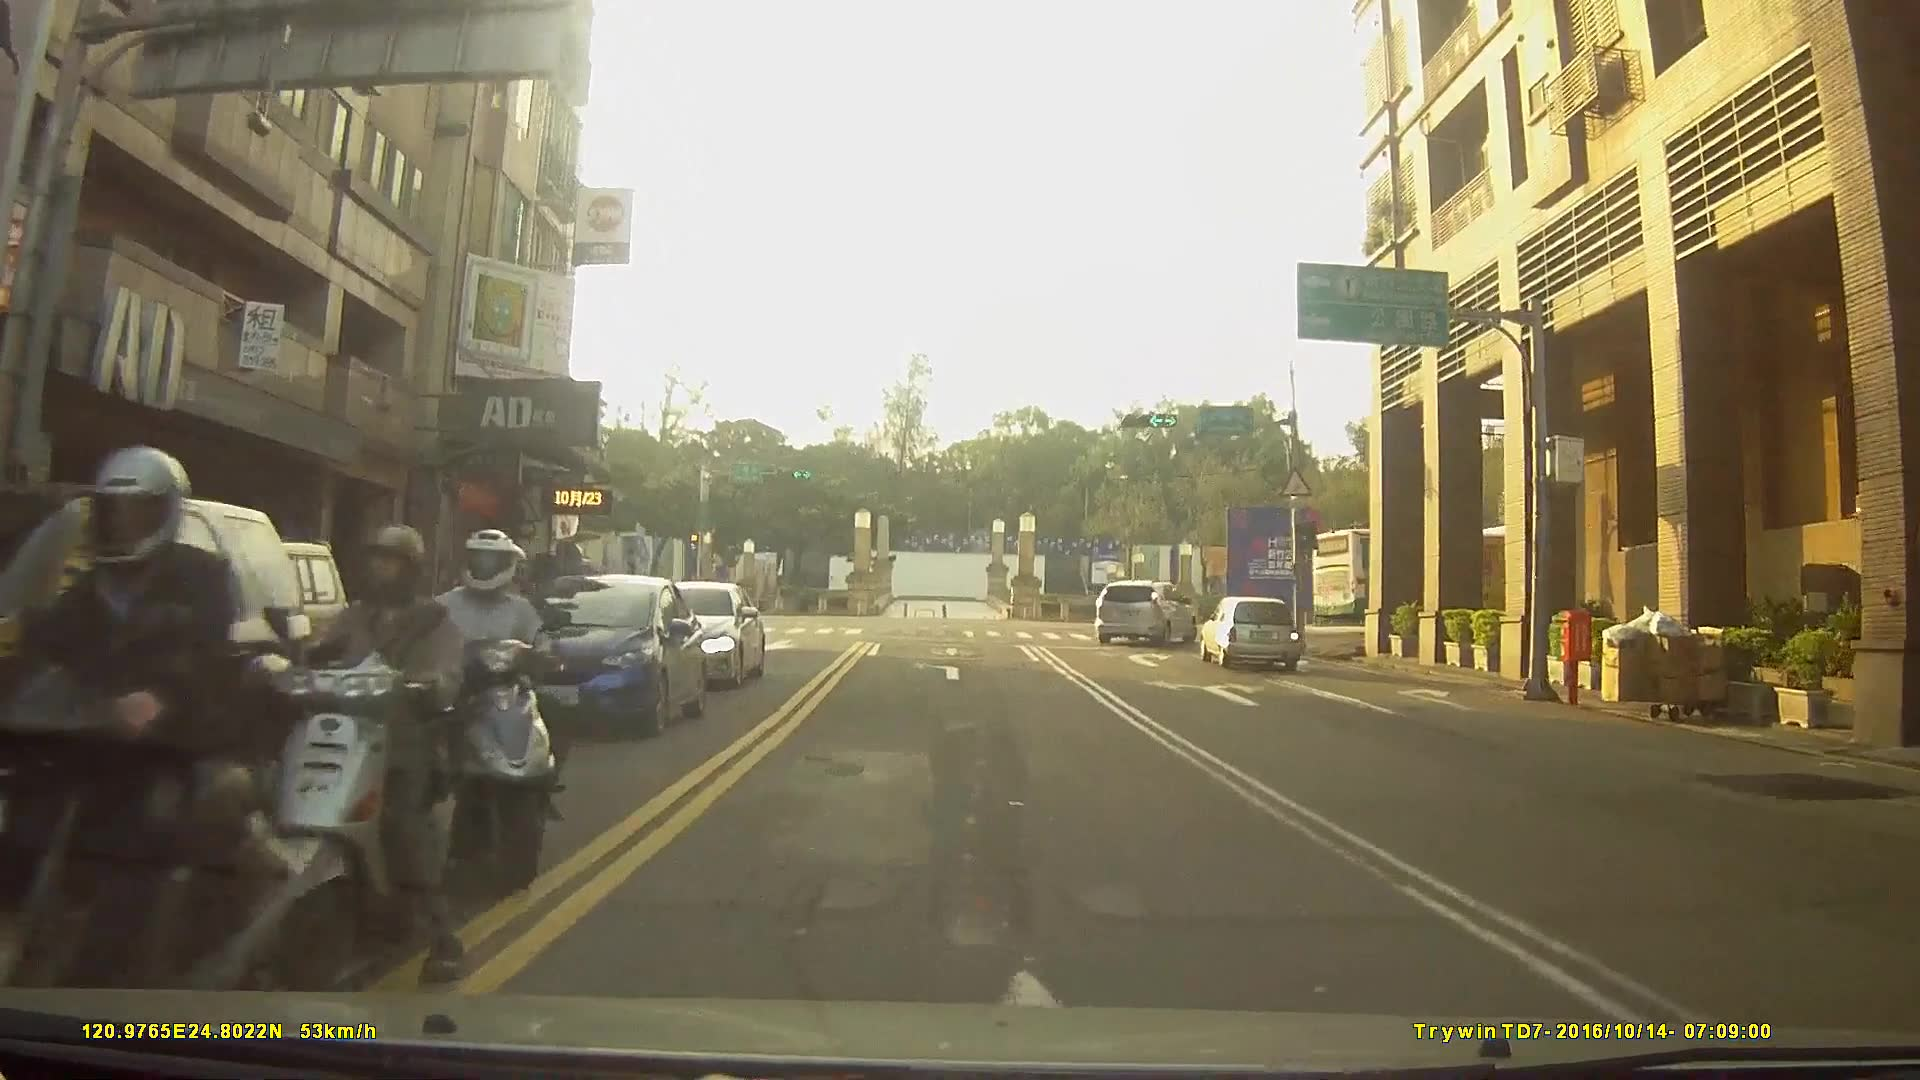rider: (1, 448, 303, 1080), (257, 526, 464, 985), (404, 528, 575, 895)
vehicle: (485, 573, 706, 737), (1311, 526, 1577, 626), (613, 579, 762, 687), (1198, 595, 1301, 670), (1095, 580, 1197, 646)
